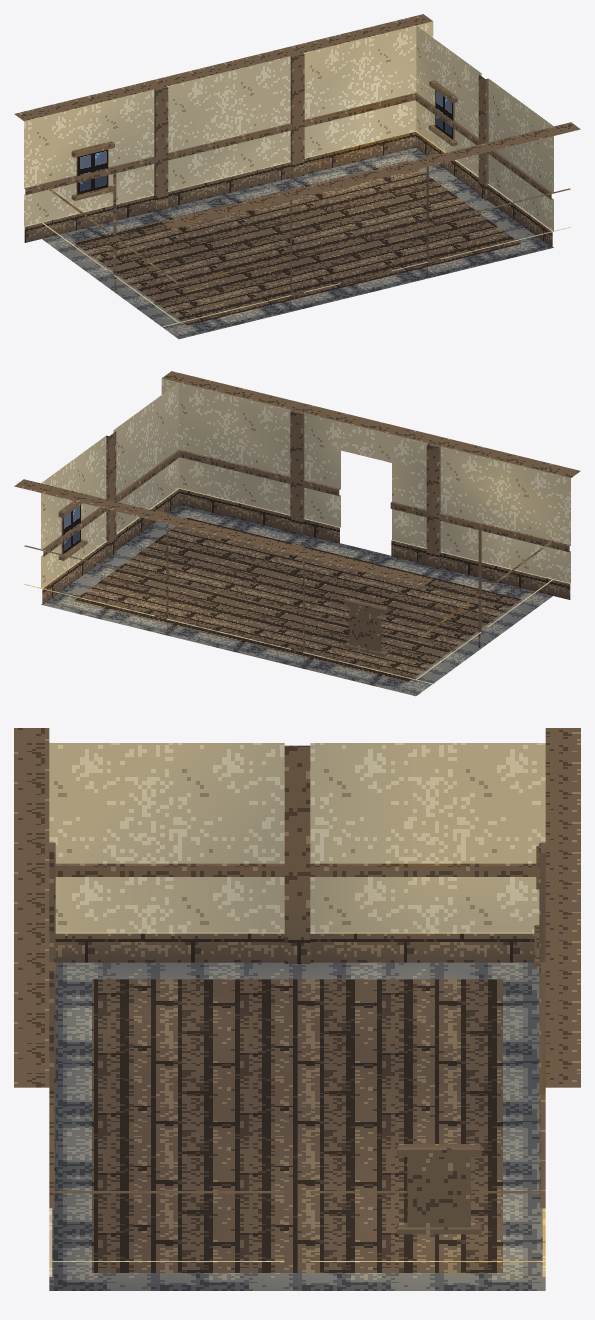
The model's file is vlg.room__taproom.glb.
3 renders of one model, top to bottom at view 1: azimuth 30°, elevation 25°; view 2: azimuth 150°, elevation 25°; view 3: azimuth 270°, elevation 25°, orthographic. The views are drawn at different scales.
Visible parts, largest first — view 1: kit_shell_walls, kit_shell_floor, kit_fittings; view 2: kit_shell_walls, kit_shell_floor, kit_fittings; view 3: kit_shell_floor, kit_shell_walls, kit_fittings.
Part boxes in pixels (box(x1,y1,x2,y2)): kit_shell_walls: box(14, 14, 580, 327); kit_shell_floor: box(42, 148, 553, 339); kit_fittings: box(71, 80, 457, 200); kit_shell_walls: box(14, 371, 580, 684); kit_shell_floor: box(41, 505, 552, 696); kit_fittings: box(58, 501, 388, 657); kit_shell_floor: box(49, 962, 545, 1290); kit_shell_walls: box(14, 728, 580, 1276); kit_fittings: box(396, 845, 539, 1234).
Bounding box in the file's own units: 12 × 3.4 × 8.
6 materials, 6 textured.
